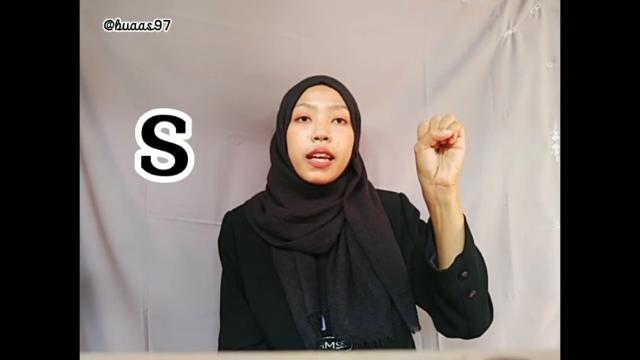S: (412, 110, 470, 192)
